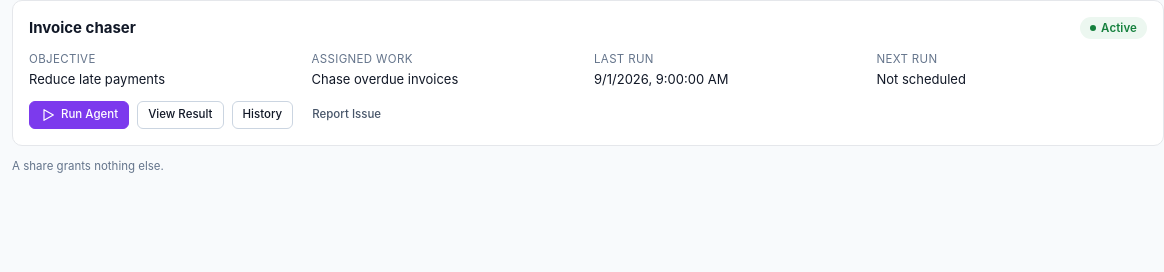
MyEngineAgents › treats a run still in flight as no result yet
Click the button with test id "operator-view-result" at (180, 114), box [137,100,224,128]
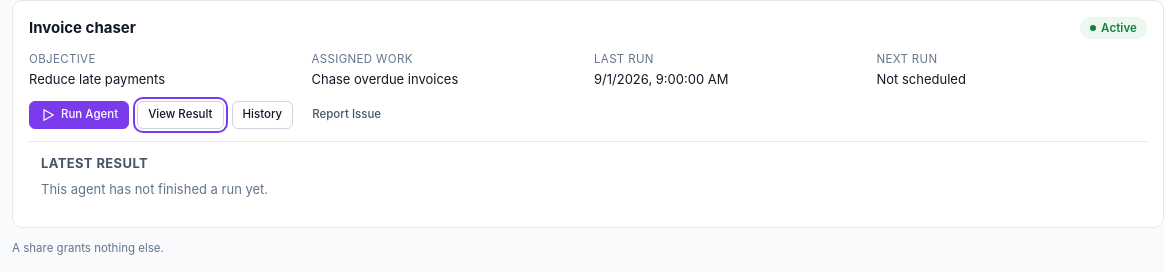
Check: the element with test id "operator-result-panel" shows "has not finished a run yet", box [41,181,268,197]
